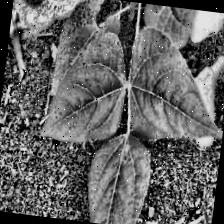ALS: (48, 35, 126, 149), (134, 28, 213, 140), (83, 134, 154, 224)
